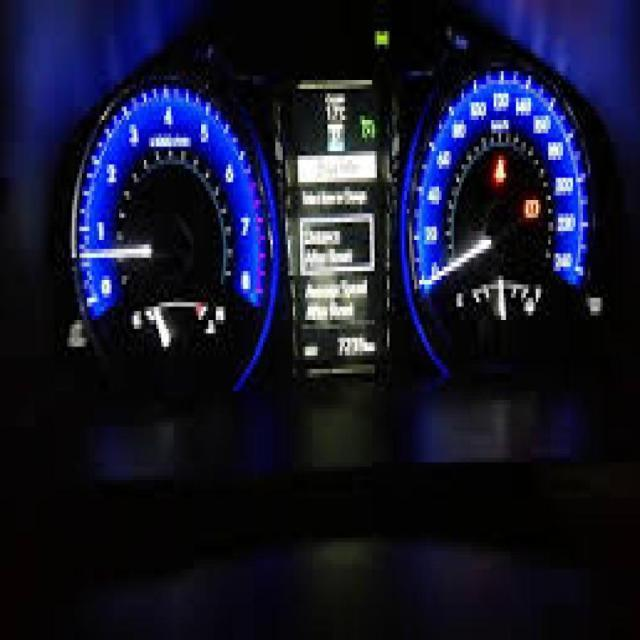Seat Belt: (494, 158, 506, 185)
